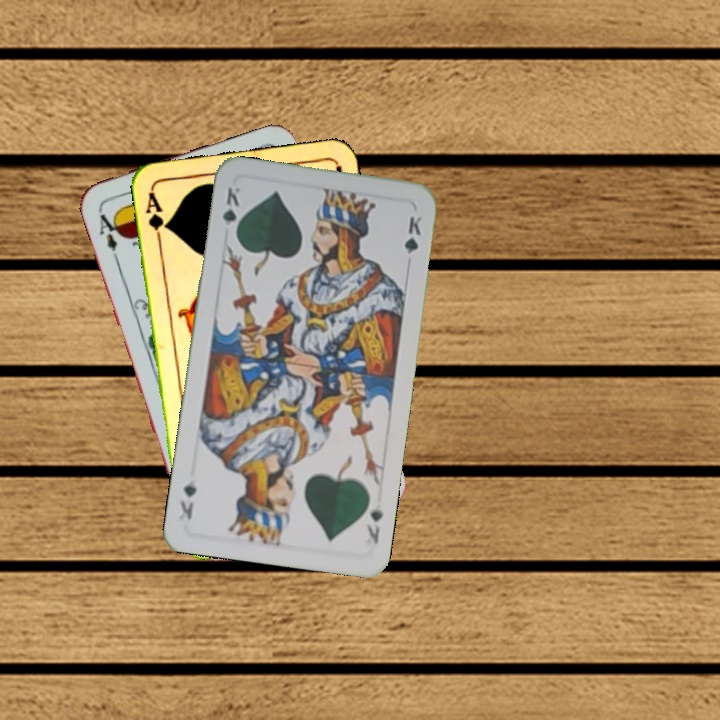EA: (94, 205, 124, 263)
GA: (141, 188, 171, 246)
GK: (218, 183, 243, 240), (362, 505, 385, 547)
